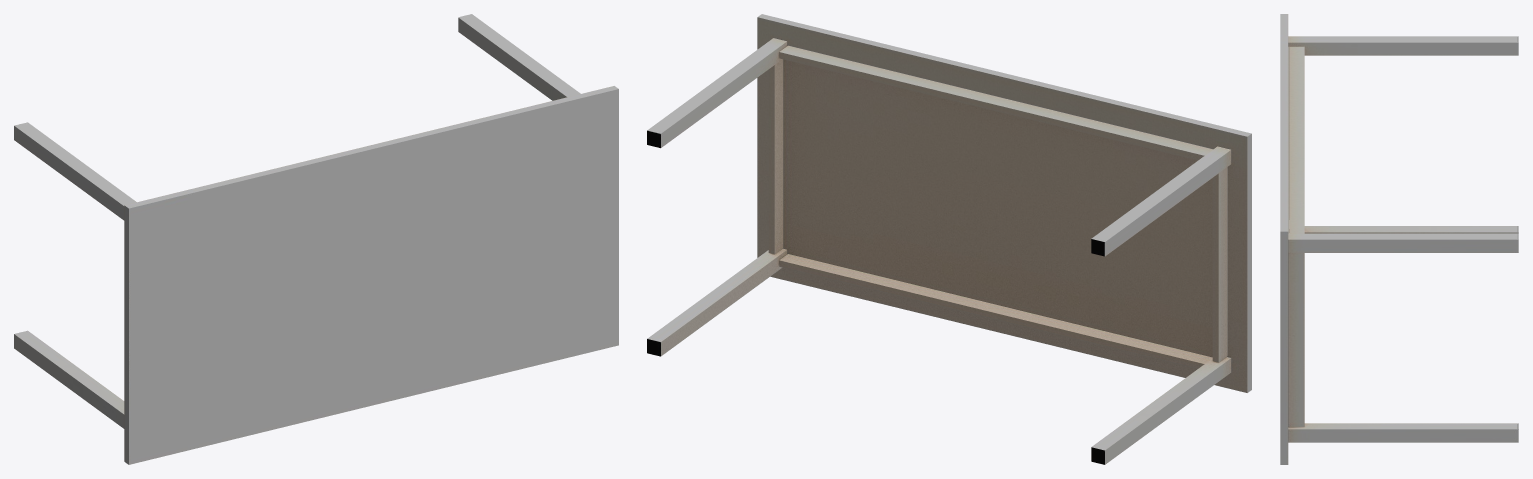
File: C1_table_final.obj
The picture shows the model from 3 angles, left to right: view 1: azimuth 30°, elevation 25°; view 2: azimuth 150°, elevation 25°; view 3: azimuth 270°, elevation 25°; orthographic projection. The views are drawn at different scales.
Parts seen in each view (by area): view 1: C1_table_final.001; view 2: C1_table_final.001; view 3: C1_table_final.001.
Boxes of the visible parts, x1=… form: C1_table_final.001: x1=14, y1=14, x2=618, y2=464; C1_table_final.001: x1=647, y1=14, x2=1251, y2=464; C1_table_final.001: x1=1280, y1=14, x2=1518, y2=464.
Size of the model in its own units: 1.6 by 0.8 by 0.74.
Materials: 1 (1 with a texture image).
